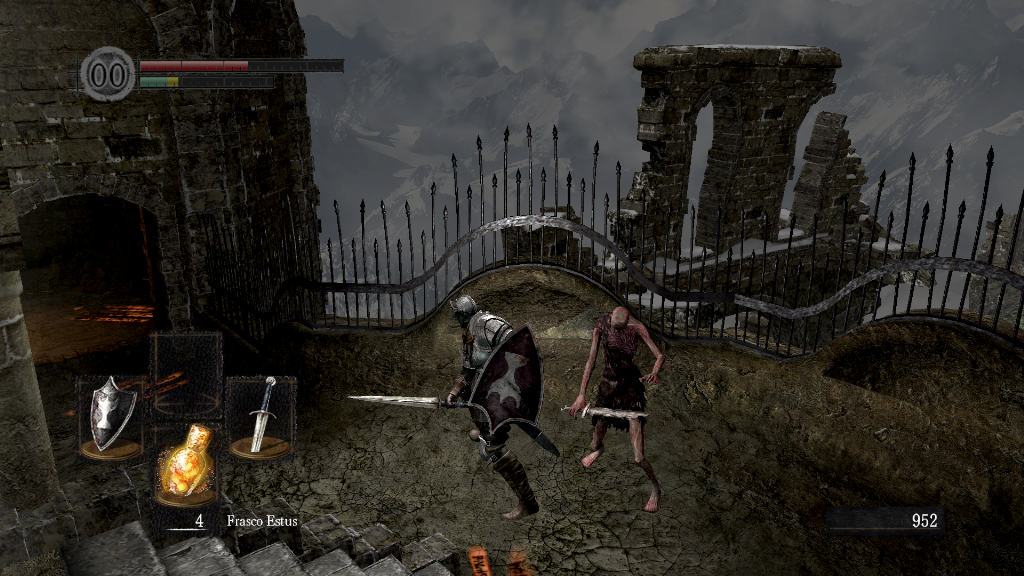health: (138, 58, 343, 71)
hollow: (562, 302, 669, 515)
humanity: (80, 45, 136, 102)
player: (344, 294, 563, 521)
souls: (825, 506, 945, 536)
stamina: (138, 74, 274, 88)
